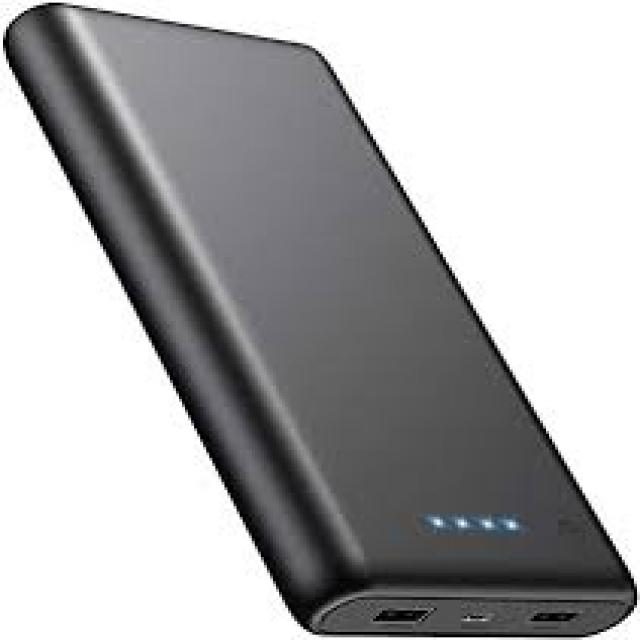non-organic waste: (4, 0, 639, 640)
